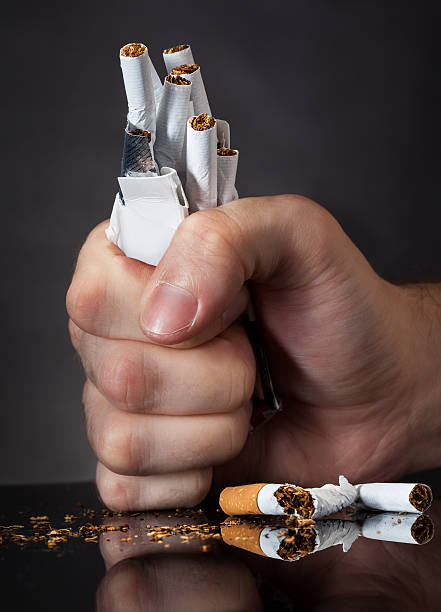cigarette: (217, 518, 308, 563), (154, 74, 194, 162), (185, 115, 219, 211), (119, 39, 156, 127), (352, 477, 439, 514), (290, 475, 359, 520), (218, 481, 300, 518), (352, 514, 439, 548), (291, 519, 360, 559), (173, 64, 215, 114), (216, 144, 242, 204), (127, 129, 156, 158), (162, 44, 194, 66)
